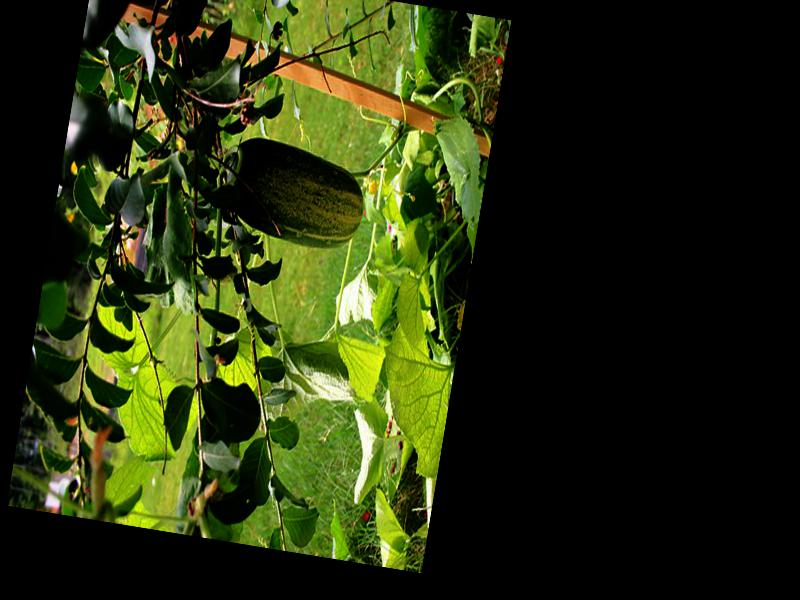Cucumber: (210, 130, 373, 252)
